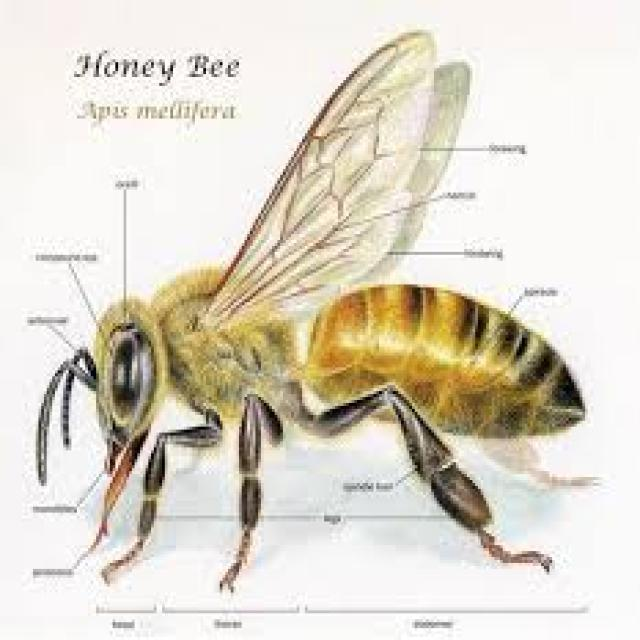Bees: (32, 28, 591, 592)
